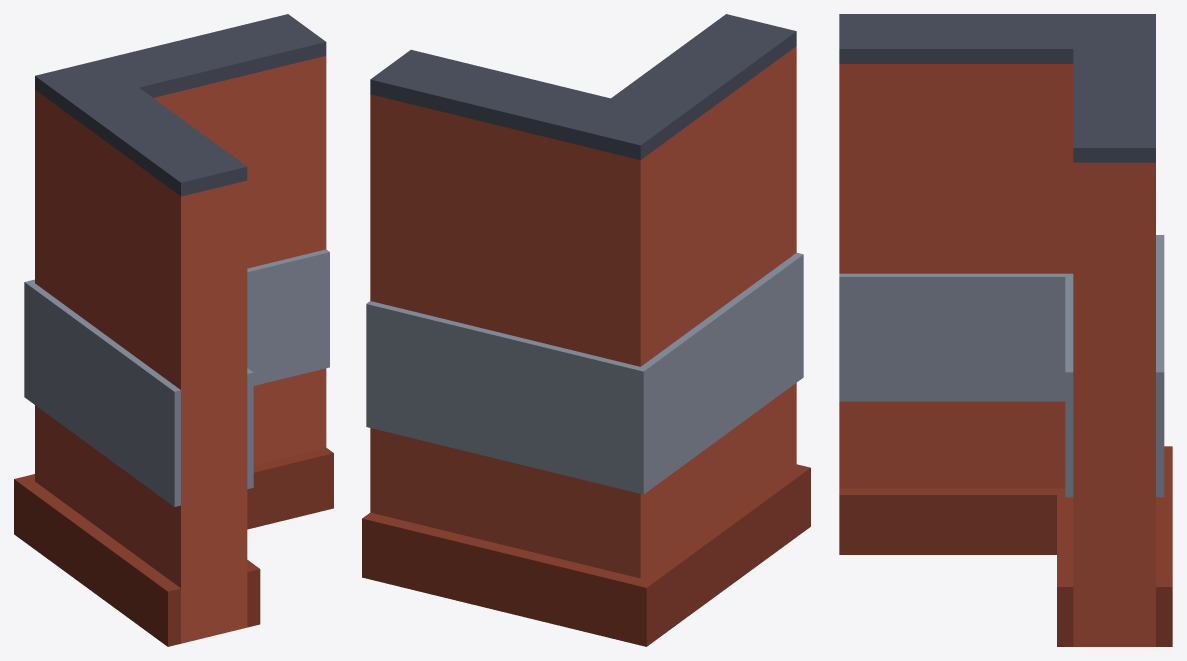
File: partition-full-elbow.glb
3 renders of one model, left to right at view 1: azimuth 30°, elevation 25°; view 2: azimuth 150°, elevation 25°; view 3: azimuth 270°, elevation 25°, orthographic. The views are drawn at different scales.
Parts seen in each view (by area): view 1: partition-full-elbow; view 2: partition-full-elbow; view 3: partition-full-elbow.
Part boxes in pixels (x1,y1,x2,y2): partition-full-elbow: (14, 14, 333, 646); partition-full-elbow: (362, 14, 810, 646); partition-full-elbow: (839, 14, 1172, 646).
Bounding box in the file's own units: 0.605 × 1 × 0.605.
Materials: 1 (1 with a texture image).
